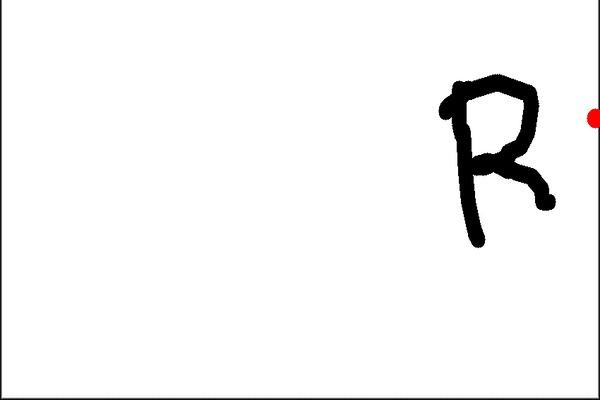R: (437, 53, 561, 252)
